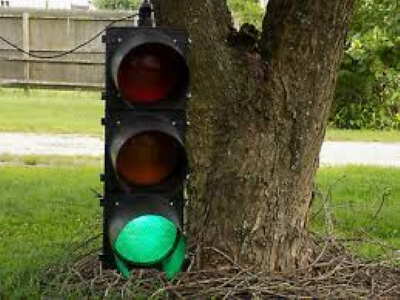trafficlight_green: (105, 27, 186, 279)
